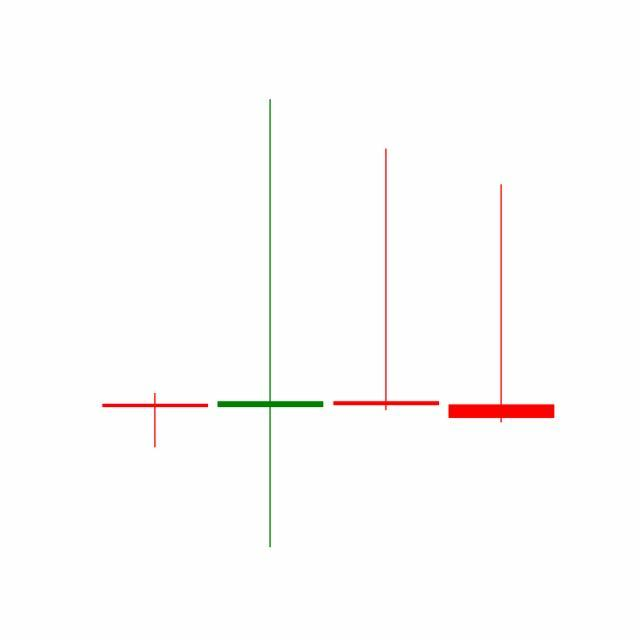Gravestone Doji: (444, 182, 560, 427)
